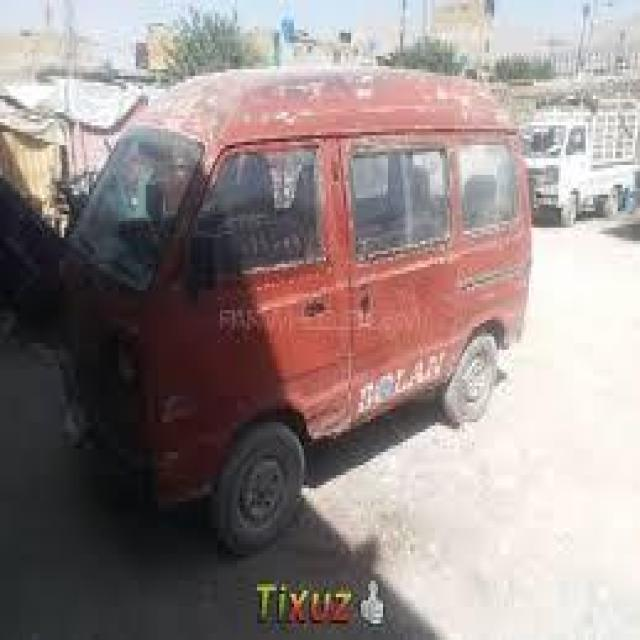van: (50, 44, 588, 544)
